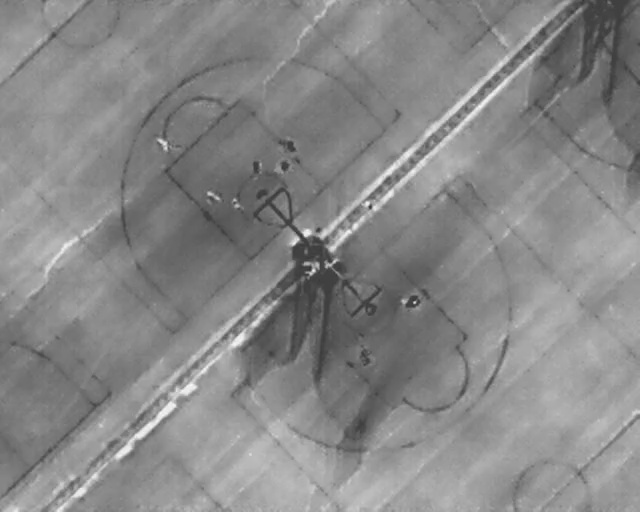Person: (274, 132, 301, 157), (153, 131, 173, 153), (399, 292, 422, 309), (203, 187, 224, 205), (228, 196, 245, 214), (251, 157, 264, 174), (279, 160, 290, 172)
